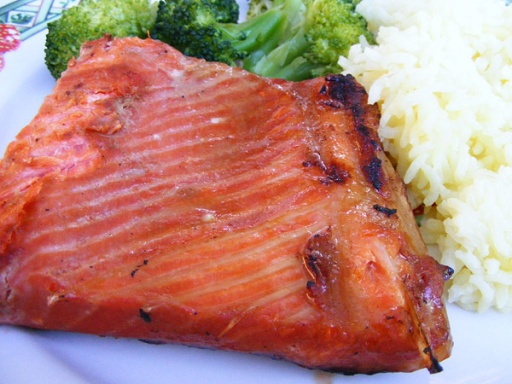background: (0, 0, 410, 226)
